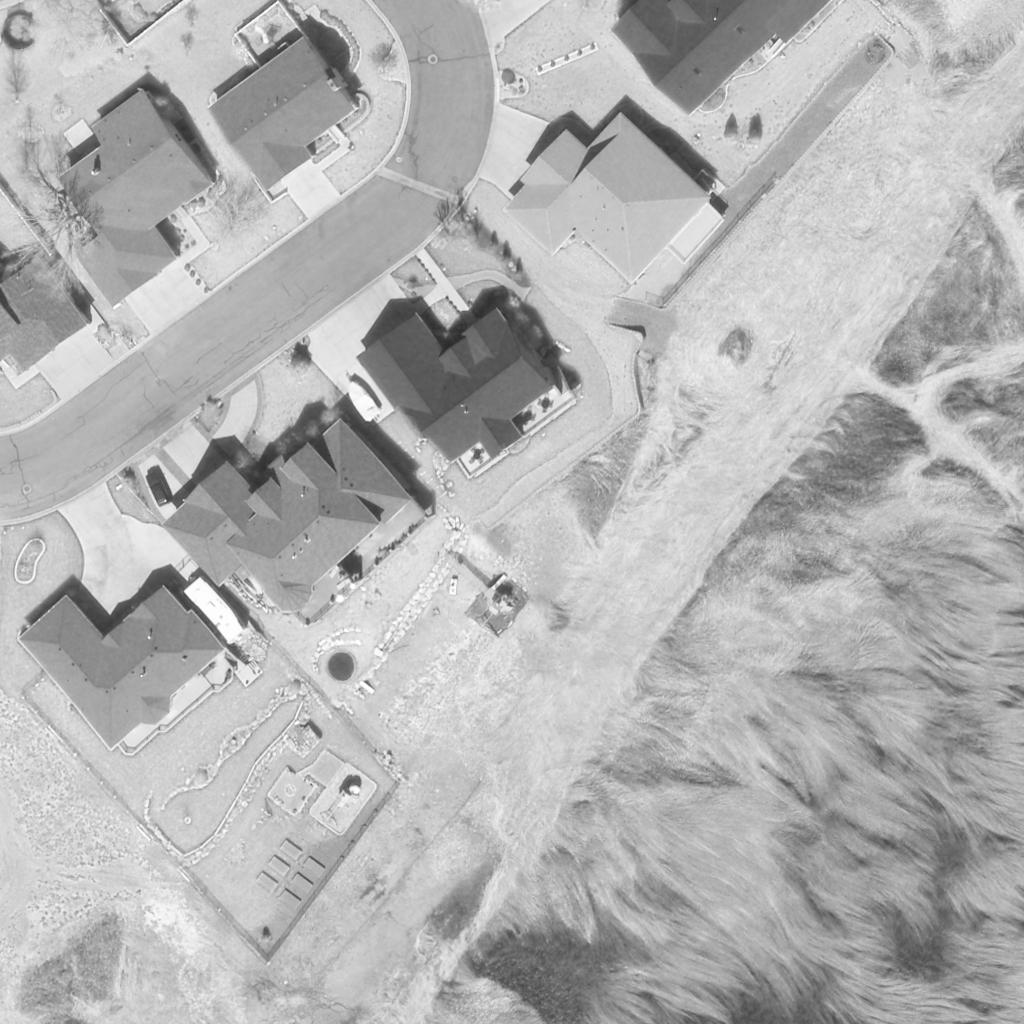vehicle: (183, 578, 247, 644), (345, 378, 381, 424), (146, 471, 170, 507)
